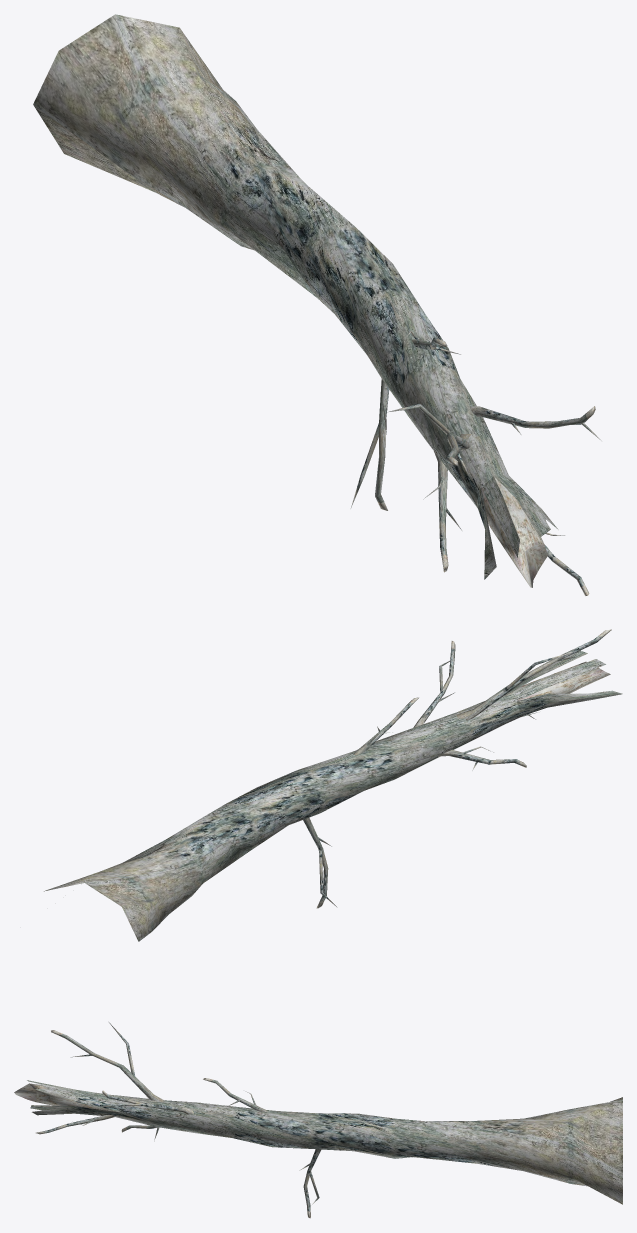
File: tree_destoyed_snow_trunk_b.glb
3 views of the same model, one above another, from view 1: azimuth 30°, elevation 25°; view 2: azimuth 150°, elevation 25°; view 3: azimuth 270°, elevation 25° (orthographic). The views are drawn at different scales.
Bounding box in the file's own units: 79.66 × 64.15 × 239.
Materials: 1 (1 with a texture image).
